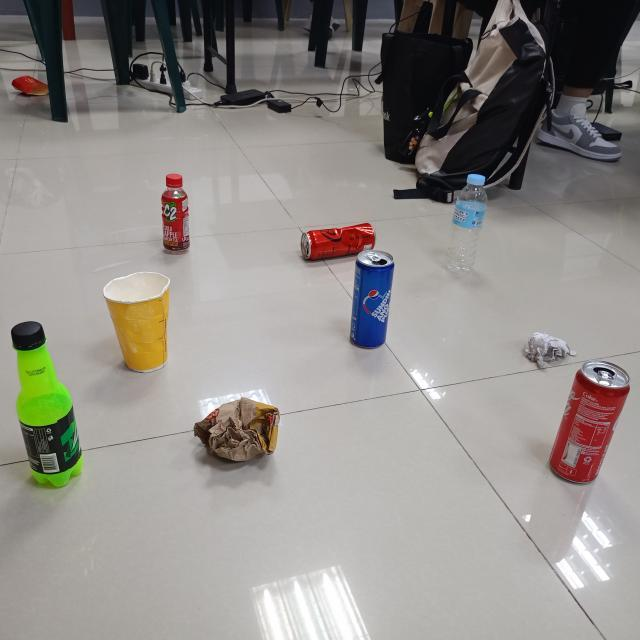recyclable waste: (8, 316, 88, 490), (544, 354, 635, 492), (98, 266, 174, 376), (188, 392, 285, 467), (346, 244, 398, 353), (440, 168, 490, 278), (296, 220, 380, 264), (158, 168, 192, 258), (520, 328, 580, 373)
